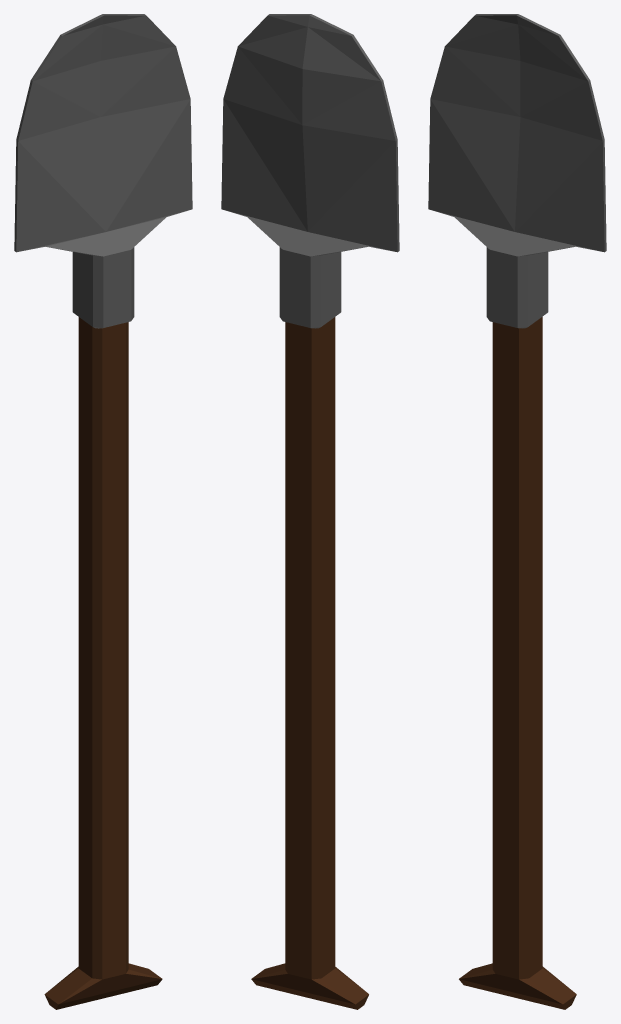
The model's file is shovel.dae.
3 renders of one model, left to right at view 1: azimuth 30°, elevation 25°; view 2: azimuth 150°, elevation 25°; view 3: azimuth 330°, elevation 25°, orthographic.
Parts seen in each view (by area): view 1: Cube.001, Cube; view 2: Cube.001, Cube; view 3: Cube.001, Cube.
Boxes of the visible parts, x1,y1,x2,y2 form: Cube.001: [14, 14, 192, 328]; Cube: [44, 317, 162, 1009]; Cube.001: [221, 14, 399, 328]; Cube: [251, 317, 368, 1009]; Cube.001: [428, 14, 606, 328]; Cube: [459, 317, 576, 1009].
Bounding box in the file's own units: 0.9811 × 0.2651 × 5.21.
